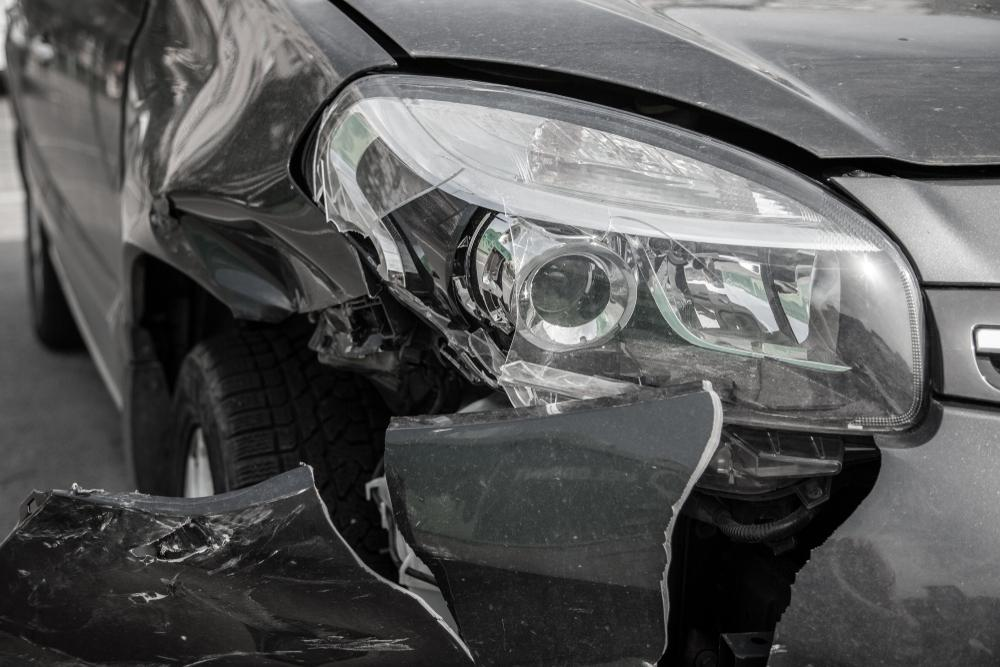crack: (654, 410, 886, 667), (306, 419, 478, 667), (127, 518, 217, 562)
dent: (155, 87, 365, 319)
lamp broken: (307, 72, 931, 435)
